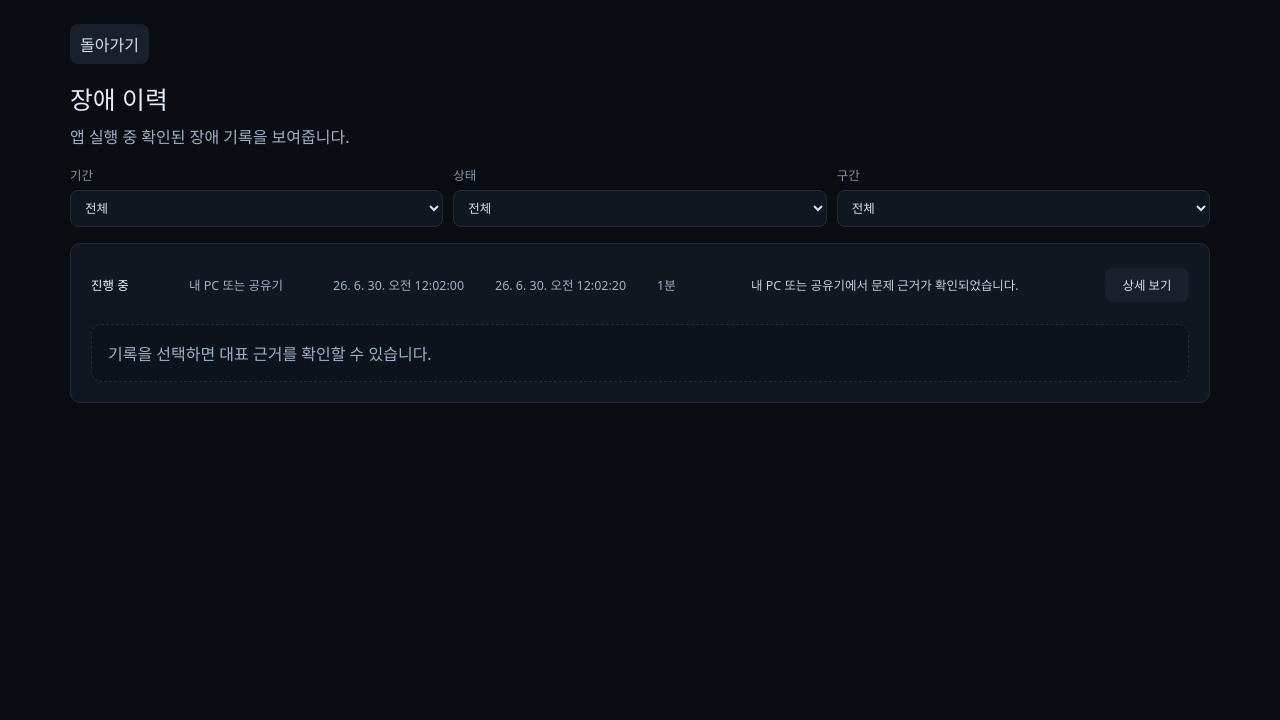
Scenario: NetworkIncidentHistoryPage › clears the selected incident when filters remove it from the list
This screenshot has width=1280, height=720.
Step 1. Click the button "상세 보기" → [1147, 285], box x1=1105 y1=268 x2=1189 y2=302
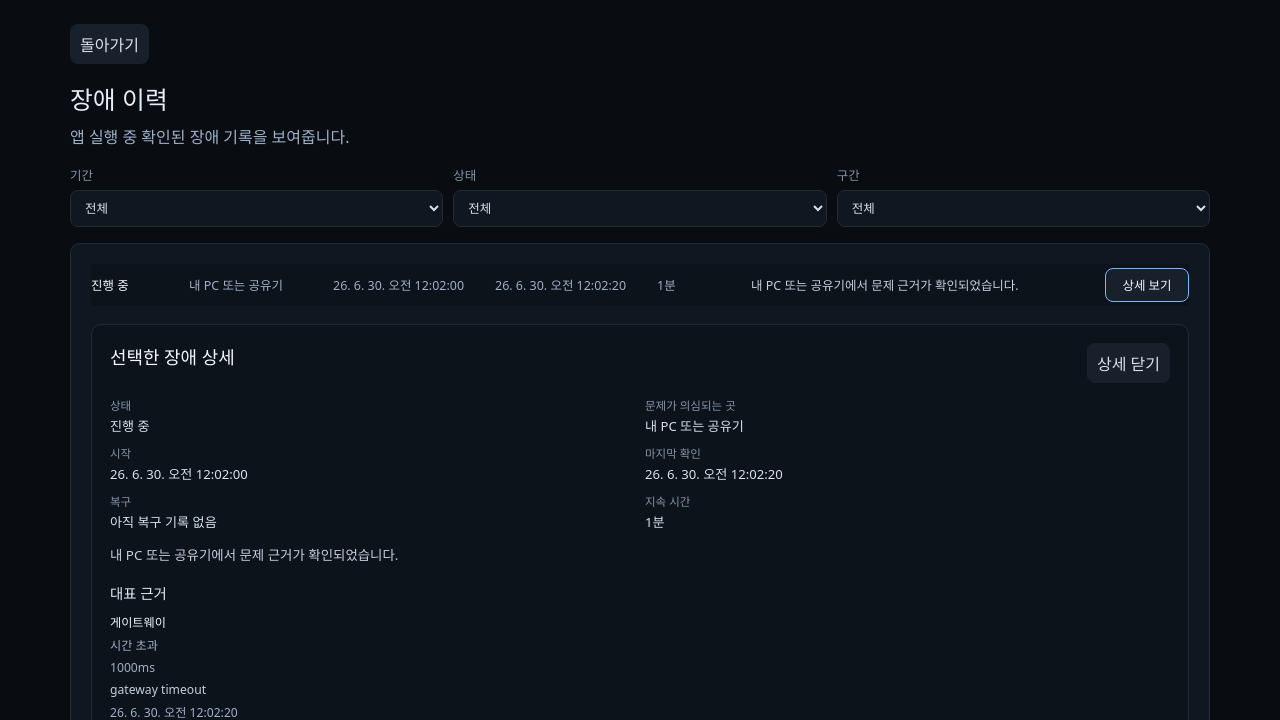
Step 2. Select "복구됨" in the dropdown labelled "상태" → [640, 208], box x1=453 y1=190 x2=827 y2=227
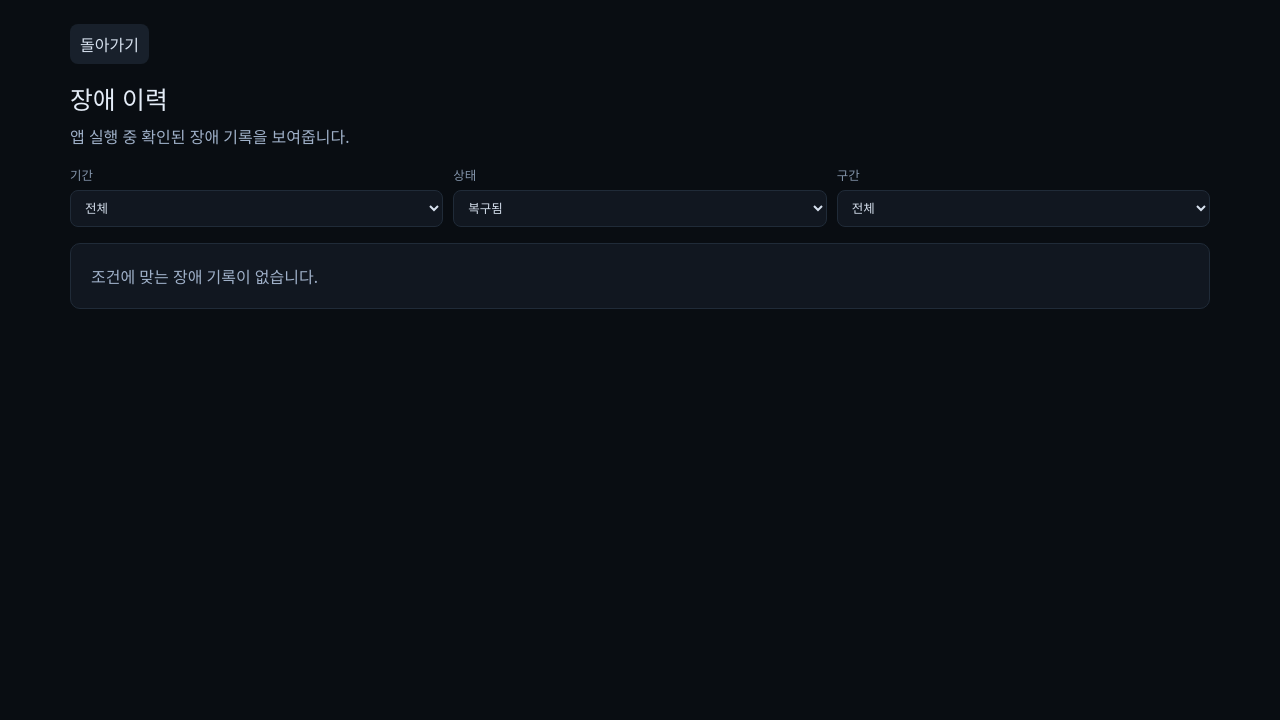
Expected: the text "조건에 맞는 장애 기록이 없습니다." is shown, x1=91 y1=266 x2=318 y2=288
Expected: the heading "선택한 장애 상세" is gone
